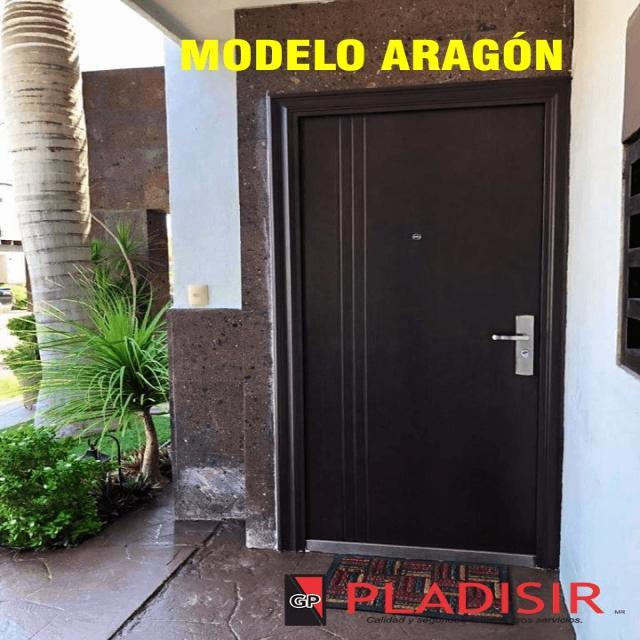door: (270, 76, 568, 567)
